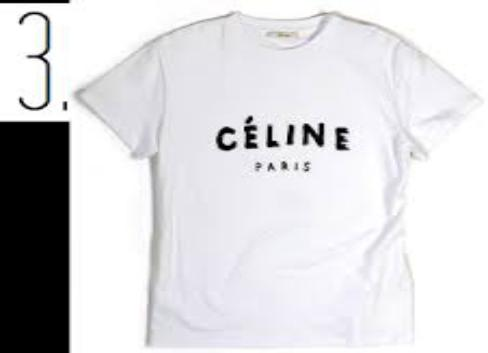CELINE: (207, 115, 369, 155)
